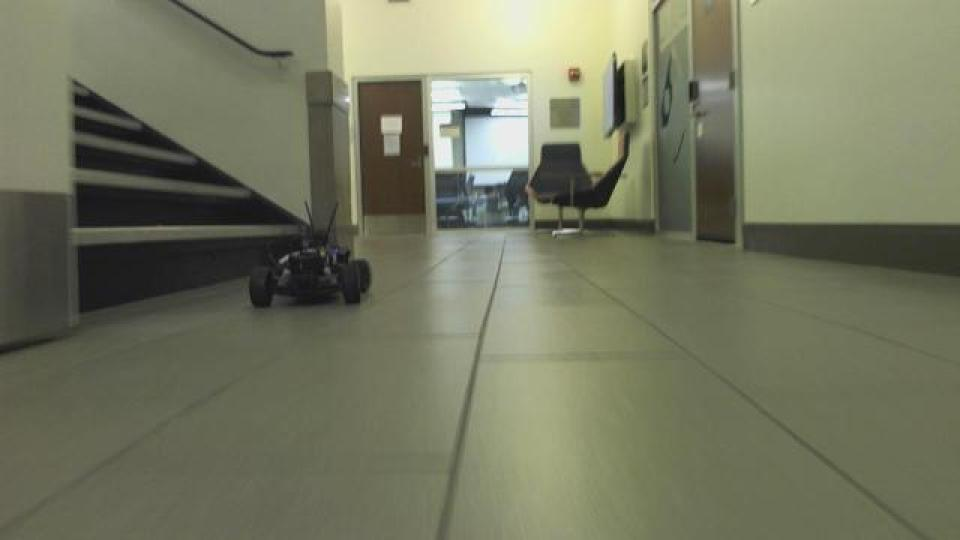car: (243, 196, 373, 312)
